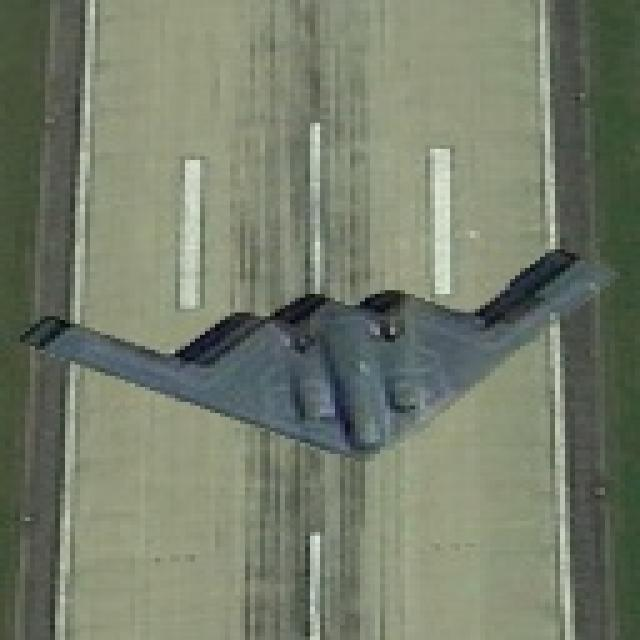B-2_TopDown: (15, 242, 620, 458)
